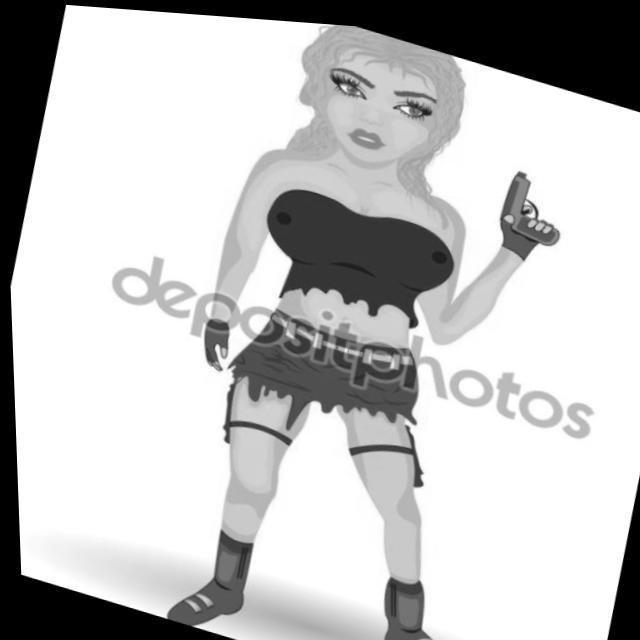weapon: (490, 154, 573, 248)
